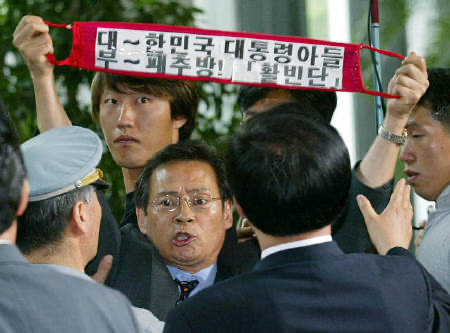Face: (145, 184, 230, 271), (96, 86, 181, 172), (395, 109, 449, 204)
